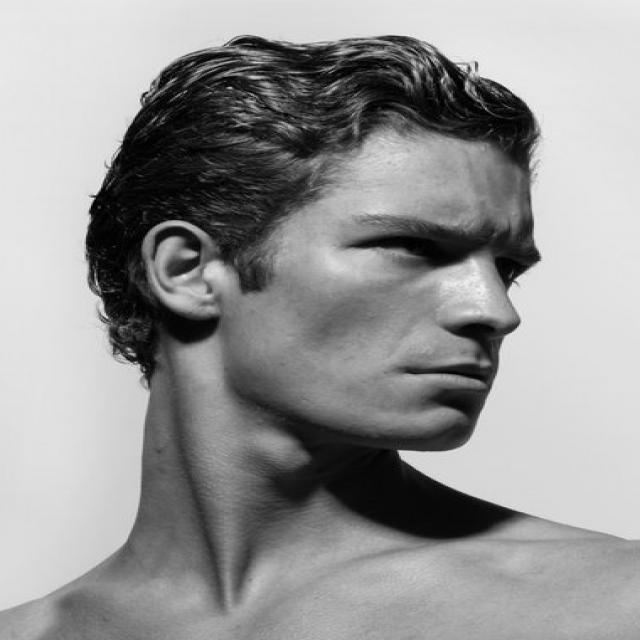earlobe: (141, 222, 217, 321)
